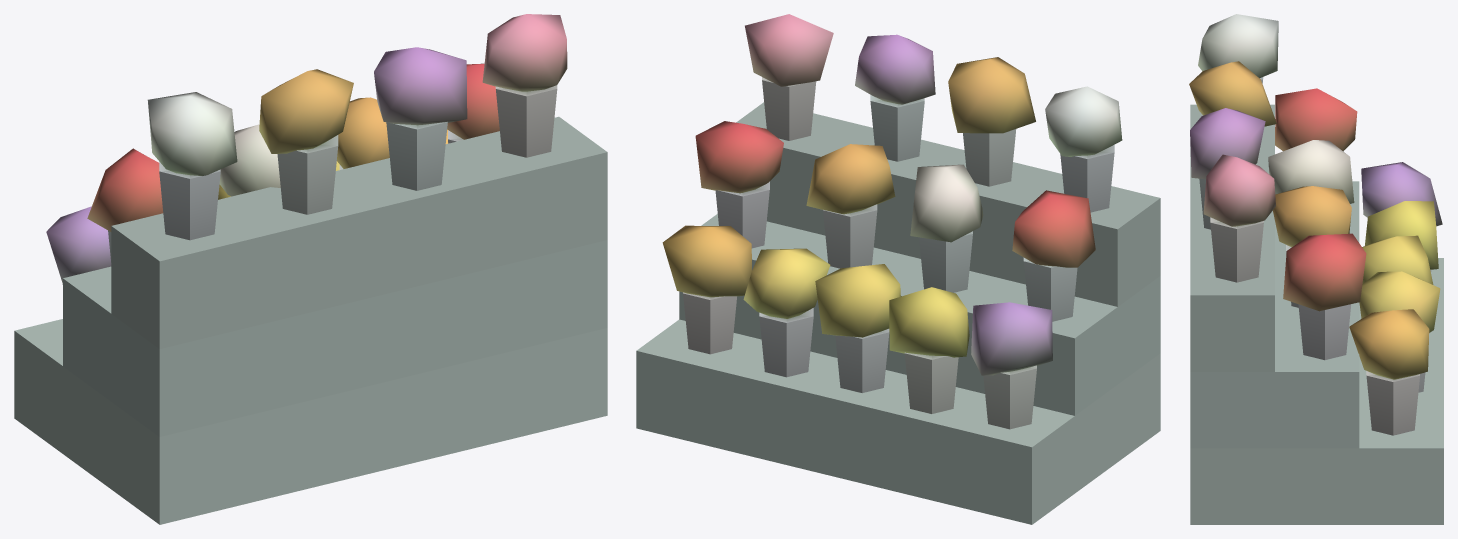
File: SM_BM_BP_FlowerStand.glb
3 renders of one model, left to right at view 1: azimuth 30°, elevation 25°; view 2: azimuth 150°, elevation 25°; view 3: azimuth 270°, elevation 25°, orthographic. The views are drawn at different scales.
Parts seen in each view (by area): view 1: SM_BM_BP_FlowerStand; view 2: SM_BM_BP_FlowerStand; view 3: SM_BM_BP_FlowerStand.
Boxes of the visible parts, box(x1,y1,x2,y2) form: SM_BM_BP_FlowerStand: box(14, 14, 607, 524); SM_BM_BP_FlowerStand: box(636, 14, 1160, 524); SM_BM_BP_FlowerStand: box(1189, 14, 1443, 524).
Size of the model in its own units: 1.6 by 1.35 by 0.905.
